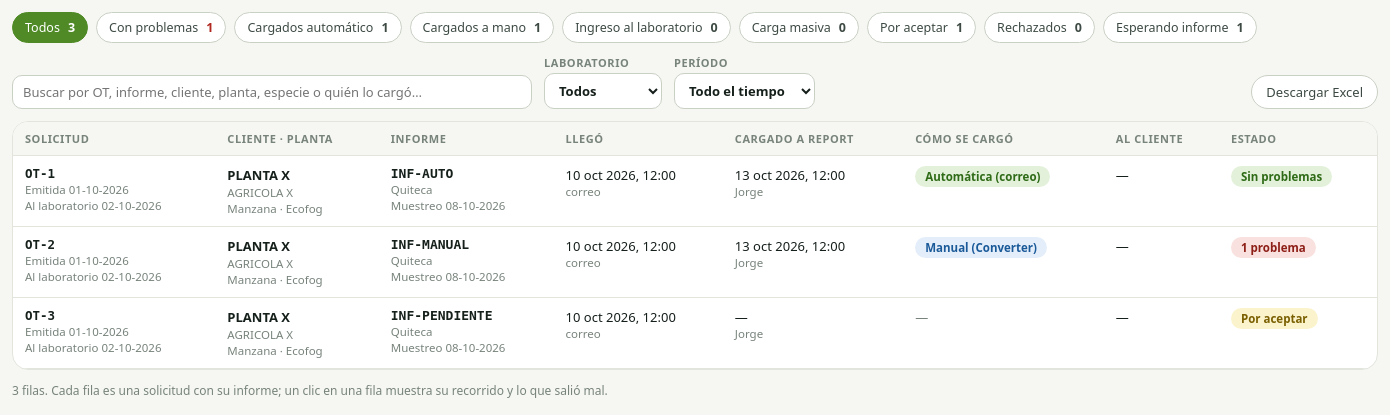
Test: RegistroInformes › los filtros separan lo automático, lo manual y los problemas
Expected: the text "INF-AUTO" is shown, 391,166 -> 453,181
Click the button "Cargados automático 1": click(318, 28) 234,12 -> 402,43
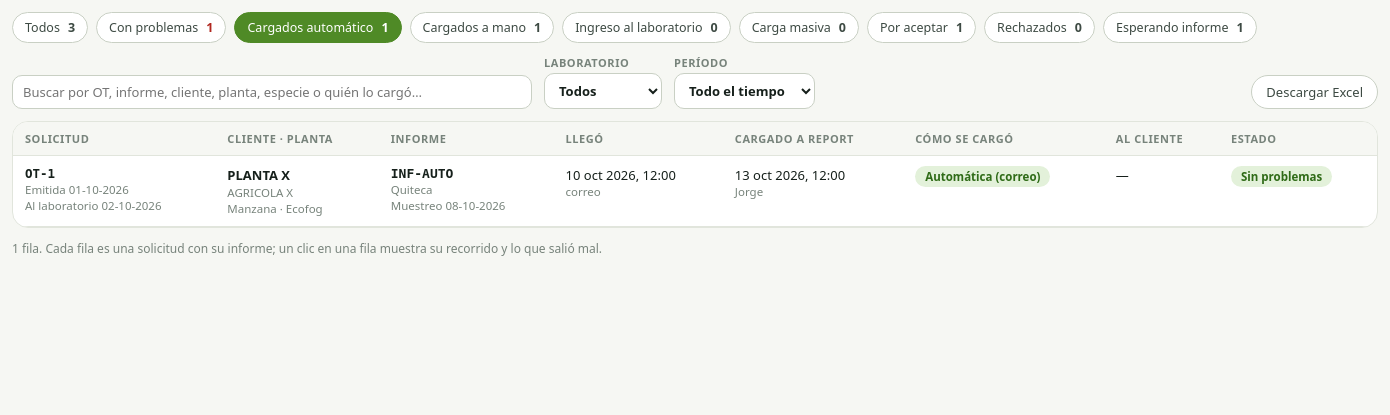
Expected: the text "INF-AUTO" is shown, 391,166 -> 453,181
Result: the text "INF-MANUAL" is gone
Click the button "Con problemas 1": click(161, 28) 96,12 -> 226,43
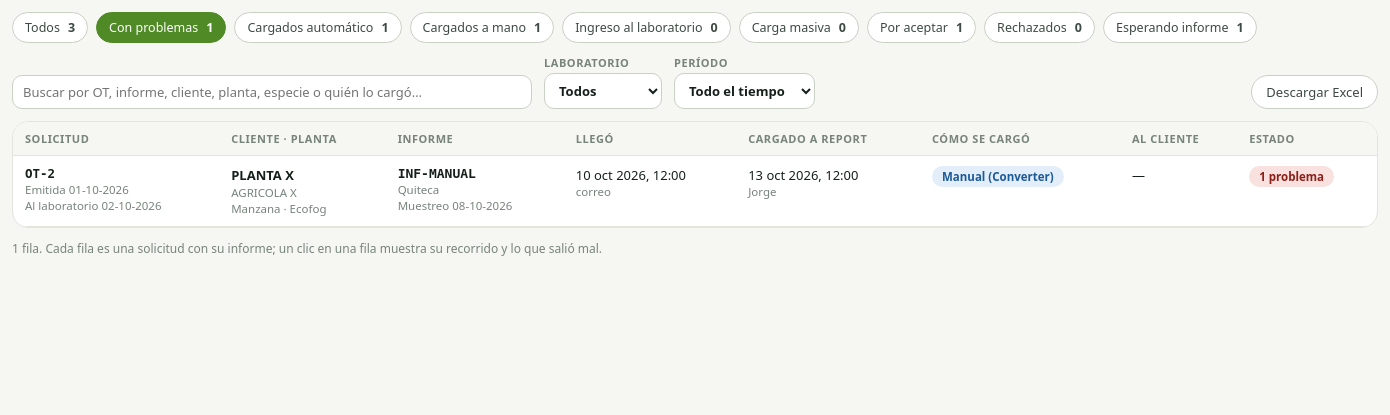
Result: the text "INF-MANUAL" is shown at 398,166 -> 476,181
Result: the text "INF-AUTO" is gone
Click the button "Esperando informe 1": click(1180, 28) 1103,12 -> 1257,43
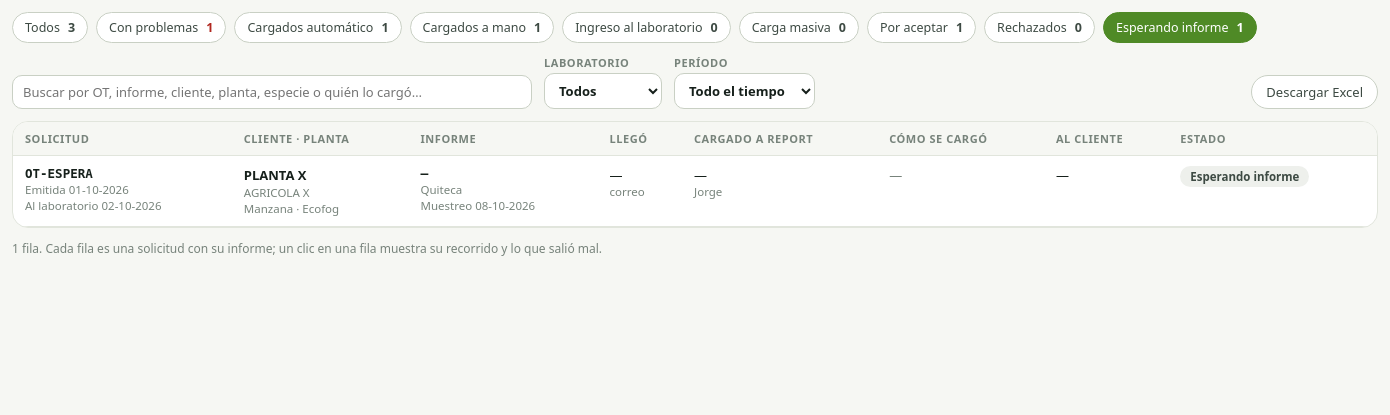
Result: the text "OT-ESPERA" is shown at 25,166 -> 93,181
